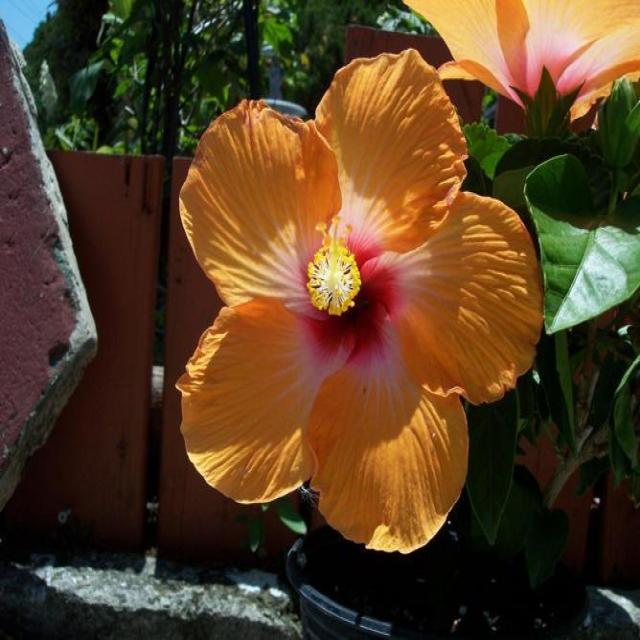hibiscus: (149, 17, 558, 565)
